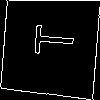T: (24, 22, 75, 57)
